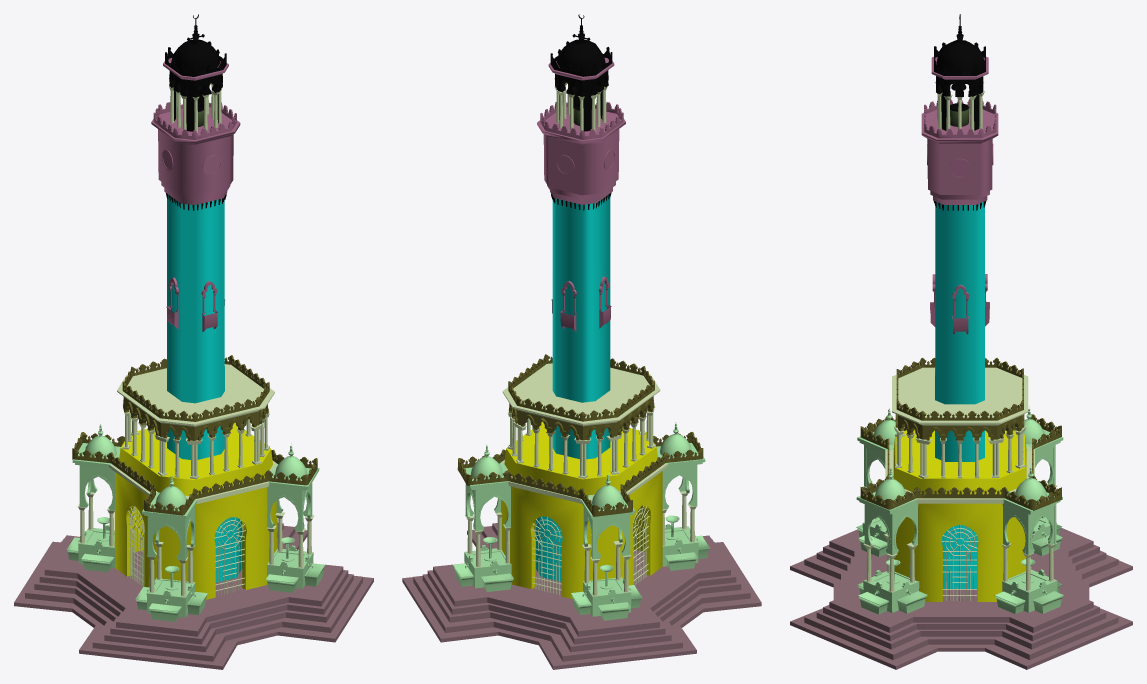
File: Saat_Kulesi.fbx
3 views of the same model, side by side, from view 1: azimuth 30°, elevation 25°; view 2: azimuth 150°, elevation 25°; view 3: azimuth 270°, elevation 25° (orthographic).
Visible parts, largest first — view 1: SM_SaatKulesi18, Cube.002_clocktower_0.039, SM_SaatKulesi28, SM_SaatKulesi15, SM_SaatKulesi55, SM_SaatKulesi37, polySurface18, SM_SaatKulesi90, SM_SaatKulesi25, SM_SaatKulesi44; view 2: SM_SaatKulesi18, Cube.002_clocktower_0.039, SM_SaatKulesi28, SM_SaatKulesi15, SM_SaatKulesi55, SM_SaatKulesi37, SM_SaatKulesi44, SM_SaatKulesi45, SM_SaatKulesi25, polySurface18; view 3: SM_SaatKulesi18, SM_SaatKulesi28, Cube.002_clocktower_0.039, SM_SaatKulesi15, SM_SaatKulesi55, SM_SaatKulesi37, SM_SaatKulesi90, SM_SaatKulesi45, SM_SaatKulesi25, polySurface18, SM_SaatKulesi44.
Part boxes in pixels (box(x1,y1,x2,y2)): SM_SaatKulesi18: box(14, 519, 373, 669); Cube.002_clocktower_0.039: box(114, 422, 277, 599); SM_SaatKulesi28: box(167, 195, 242, 582); SM_SaatKulesi15: box(72, 355, 317, 515); SM_SaatKulesi55: box(109, 361, 277, 595); SM_SaatKulesi37: box(151, 102, 240, 204); polySurface18: box(135, 474, 207, 621); SM_SaatKulesi90: box(265, 443, 324, 592); SM_SaatKulesi25: box(165, 14, 226, 210); SM_SaatKulesi44: box(67, 424, 116, 572); SM_SaatKulesi18: box(402, 523, 761, 669); Cube.002_clocktower_0.039: box(501, 422, 662, 599); SM_SaatKulesi28: box(535, 195, 610, 581); SM_SaatKulesi15: box(458, 354, 703, 516); SM_SaatKulesi55: box(501, 363, 668, 594); SM_SaatKulesi37: box(537, 102, 625, 204); SM_SaatKulesi44: box(571, 473, 642, 620); SM_SaatKulesi45: box(453, 444, 513, 591); SM_SaatKulesi25: box(550, 14, 612, 210); polySurface18: box(660, 422, 709, 570); SM_SaatKulesi18: box(790, 528, 1132, 669); SM_SaatKulesi28: box(935, 202, 984, 588); Cube.002_clocktower_0.039: box(893, 429, 1026, 601); SM_SaatKulesi15: box(860, 357, 1061, 510); SM_SaatKulesi55: box(885, 365, 1034, 600); SM_SaatKulesi37: box(921, 98, 998, 204); SM_SaatKulesi90: box(857, 467, 927, 614); SM_SaatKulesi45: box(994, 465, 1063, 613); SM_SaatKulesi25: box(933, 14, 986, 210); polySurface18: box(856, 408, 896, 556); SM_SaatKulesi44: box(1014, 406, 1062, 555).
Size of the model in its own units: 1329 by 2495 by 1329.
